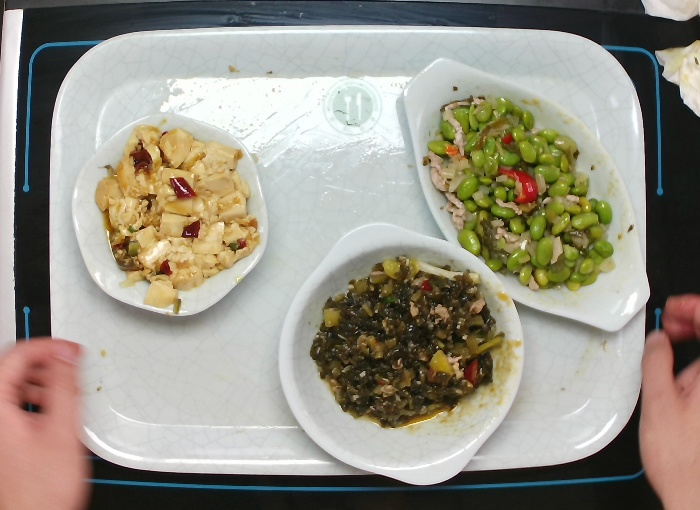JYsf-Shuang_Er_Wan: (274, 218, 529, 489)
JYsf-Yu_Pan: (399, 54, 654, 334)
WCQzf-Hua_Duo_Wan: (69, 110, 272, 319)
